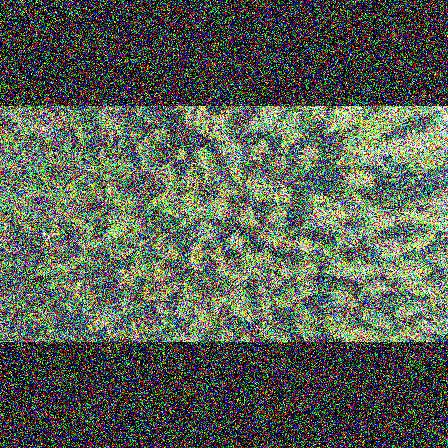Dead: (37, 123, 63, 139)
